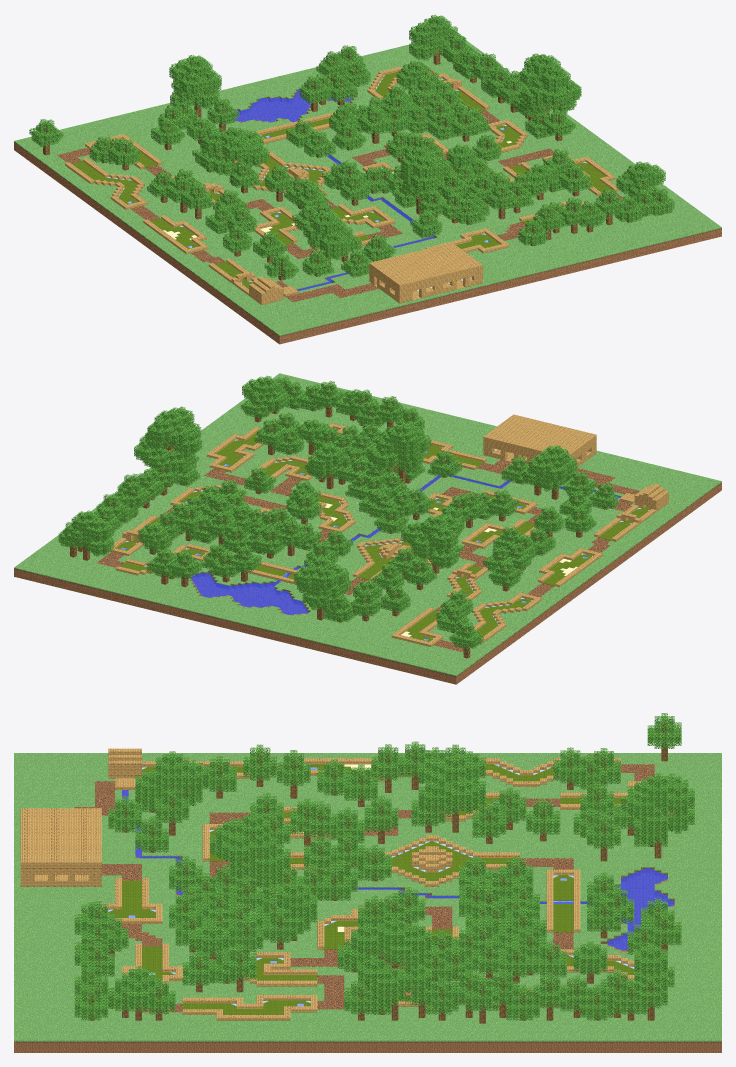
Rendered from golf-escenario-10.glb.
3 views of the same model, one above another, from view 1: azimuth 30°, elevation 25°; view 2: azimuth 150°, elevation 25°; view 3: azimuth 270°, elevation 25° (orthographic). The views are drawn at different scales.
Bounding box in the file's own units: 5.61 × 1 × 5.83.
Materials: 3 (3 with a texture image).
